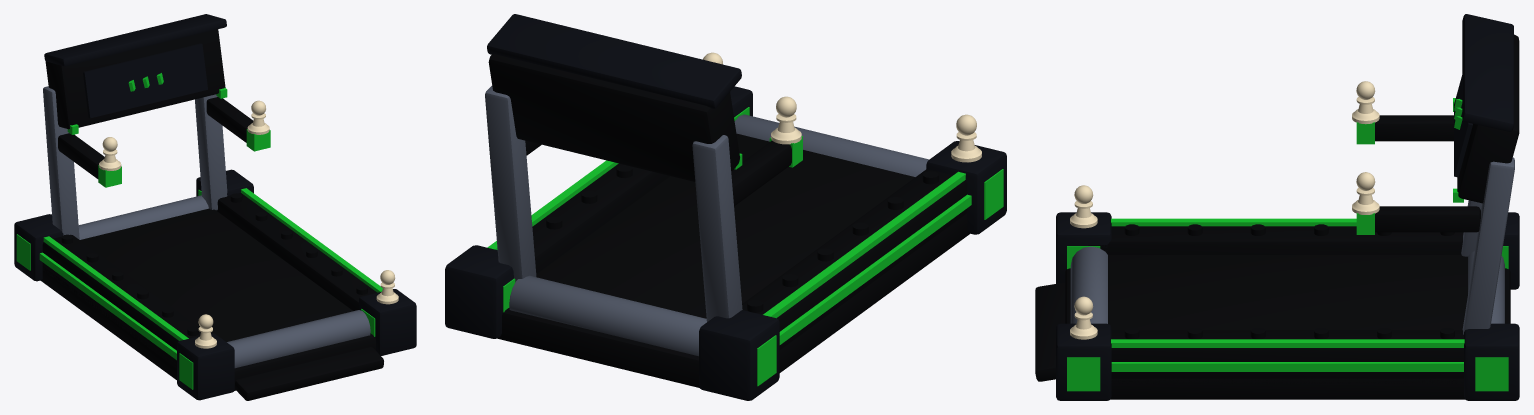
Rendered from PawnMill.obj.
The picture shows the model from 3 angles, left to right: view 1: azimuth 30°, elevation 25°; view 2: azimuth 150°, elevation 25°; view 3: azimuth 270°, elevation 25°; orthographic projection. The views are drawn at different scales.
Visible parts, largest first — view 1: PawnMill_Body, PawnMill_Belt, PawnMill_Panel, PawnMill_Steel, PawnMill_Neon, PawnMill_Chess; view 2: PawnMill_Body, PawnMill_Belt, PawnMill_Panel, PawnMill_Steel, PawnMill_Neon, PawnMill_Chess; view 3: PawnMill_Body, PawnMill_Belt, PawnMill_Panel, PawnMill_Neon, PawnMill_Steel, PawnMill_Chess.
Boxes of the visible parts, x1=… form: PawnMill_Body: x1=40, y1=29, x2=383, y2=400; PawnMill_Belt: x1=80, y1=208, x2=353, y2=341; PawnMill_Panel: x1=14, y1=14, x2=416, y2=400; PawnMill_Steel: x1=43, y1=86, x2=370, y2=368; PawnMill_Neon: x1=16, y1=73, x2=382, y2=389; PawnMill_Chess: x1=99, y1=100, x2=398, y2=348; PawnMill_Body: x1=488, y1=54, x2=969, y2=387; PawnMill_Belt: x1=536, y1=133, x2=915, y2=318; PawnMill_Panel: x1=445, y1=14, x2=1006, y2=400; PawnMill_Steel: x1=485, y1=85, x2=928, y2=356; PawnMill_Neon: x1=487, y1=107, x2=1003, y2=386; PawnMill_Chess: x1=703, y1=52, x2=981, y2=162; PawnMill_Body: x1=1035, y1=34, x2=1519, y2=399; PawnMill_Belt: x1=1108, y1=255, x2=1467, y2=330; PawnMill_Panel: x1=1056, y1=14, x2=1519, y2=400; PawnMill_Neon: x1=1067, y1=98, x2=1508, y2=391; PawnMill_Steel: x1=1070, y1=157, x2=1514, y2=334; PawnMill_Chess: x1=1070, y1=81, x2=1379, y2=339.
Bounding box in the file's own units: 8.66 × 8.26 × 13.06.
